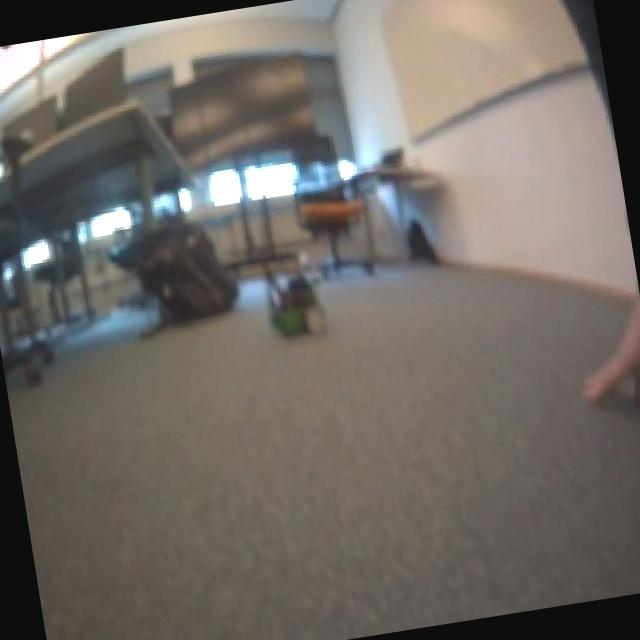robot: (264, 269, 334, 343)
